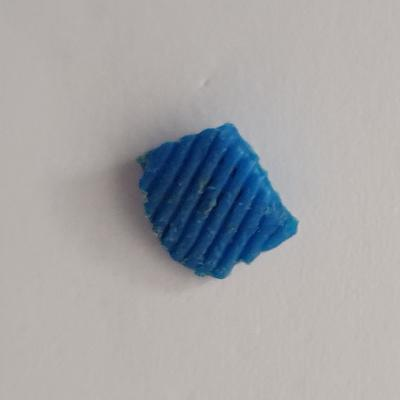plastic: (130, 119, 304, 282)
